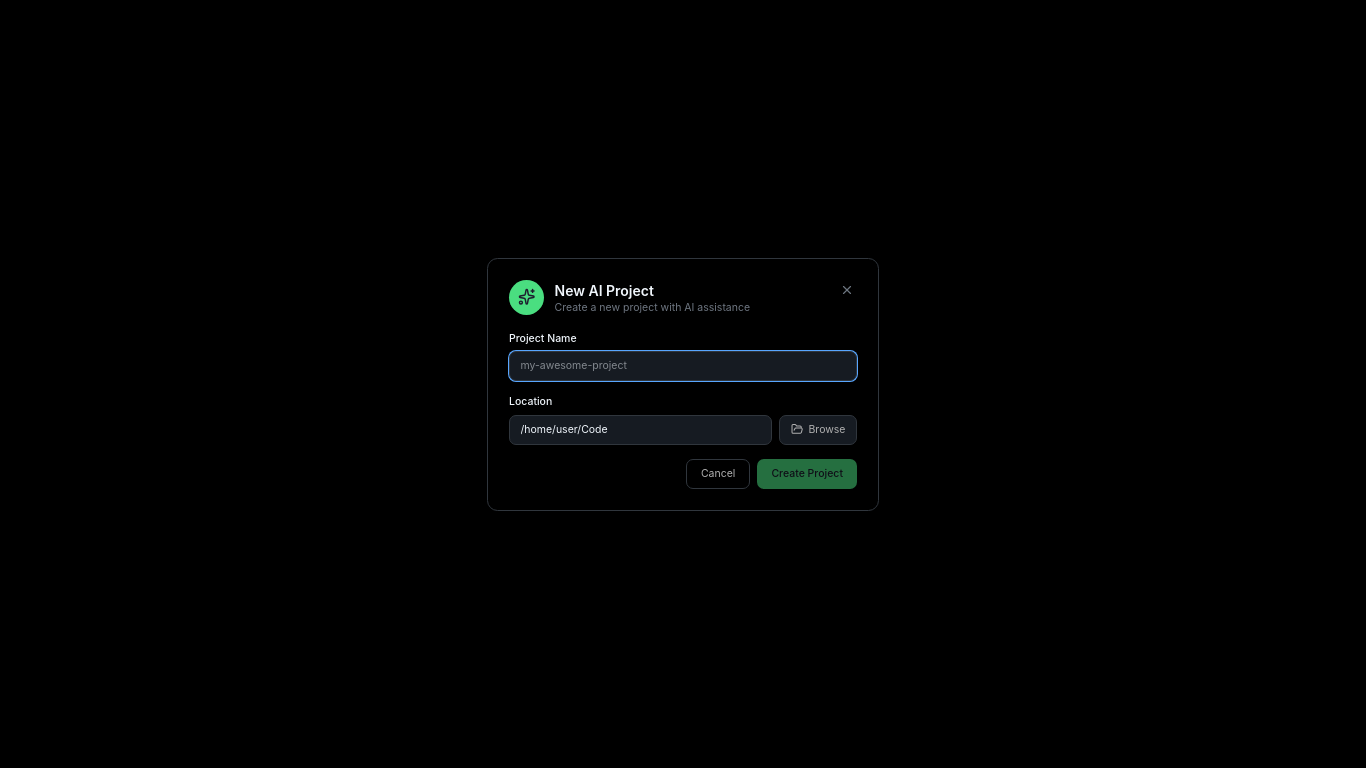
NewProjectDialog › shows derived slug path when project name is entered
Expected: the field with placeholder "~/Code" holds "/home/user/Code", [509,414,772,444]
Type "My Cool Project" into the field with placeholder "my-awesome-project" at (683, 366), box [509,351,857,381]
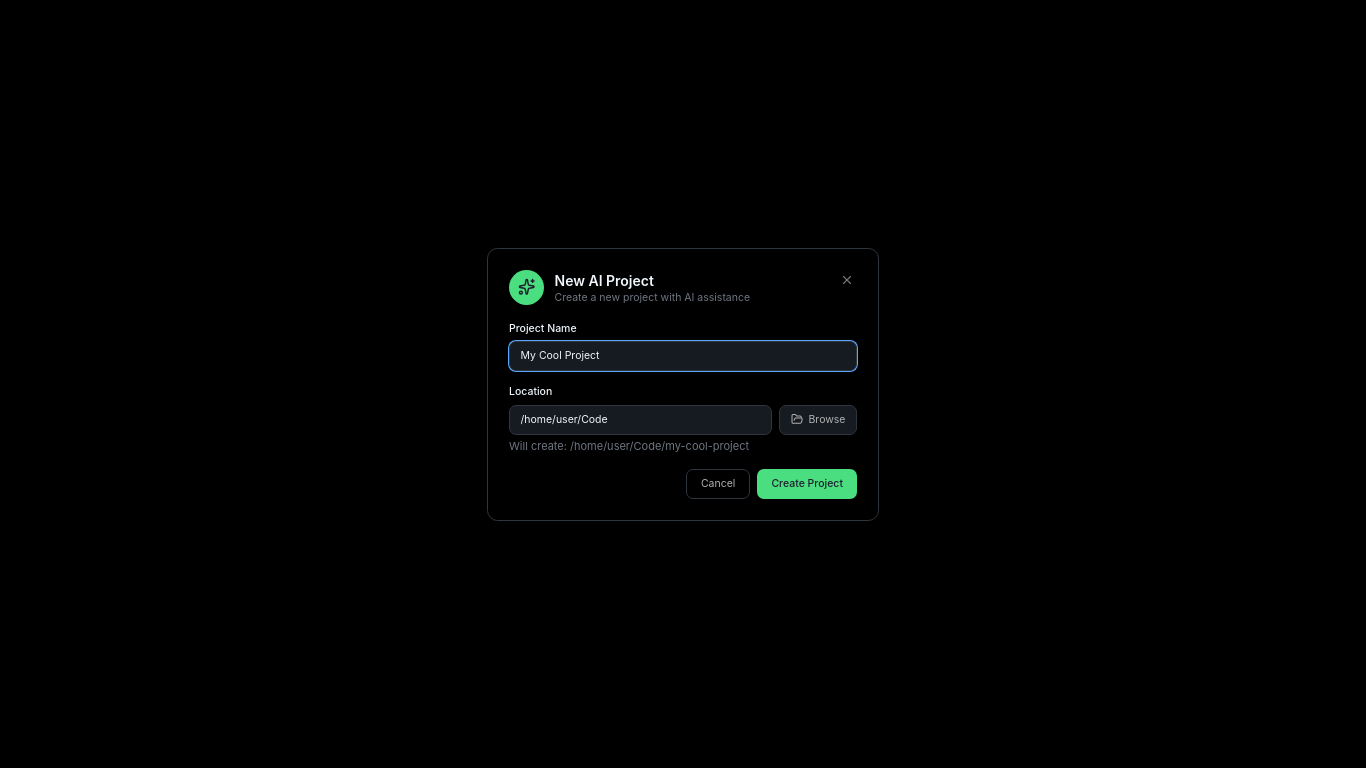
Result: the text "Will create: /home/user/Code/my-cool-project" is shown at [509,439,749,453]
